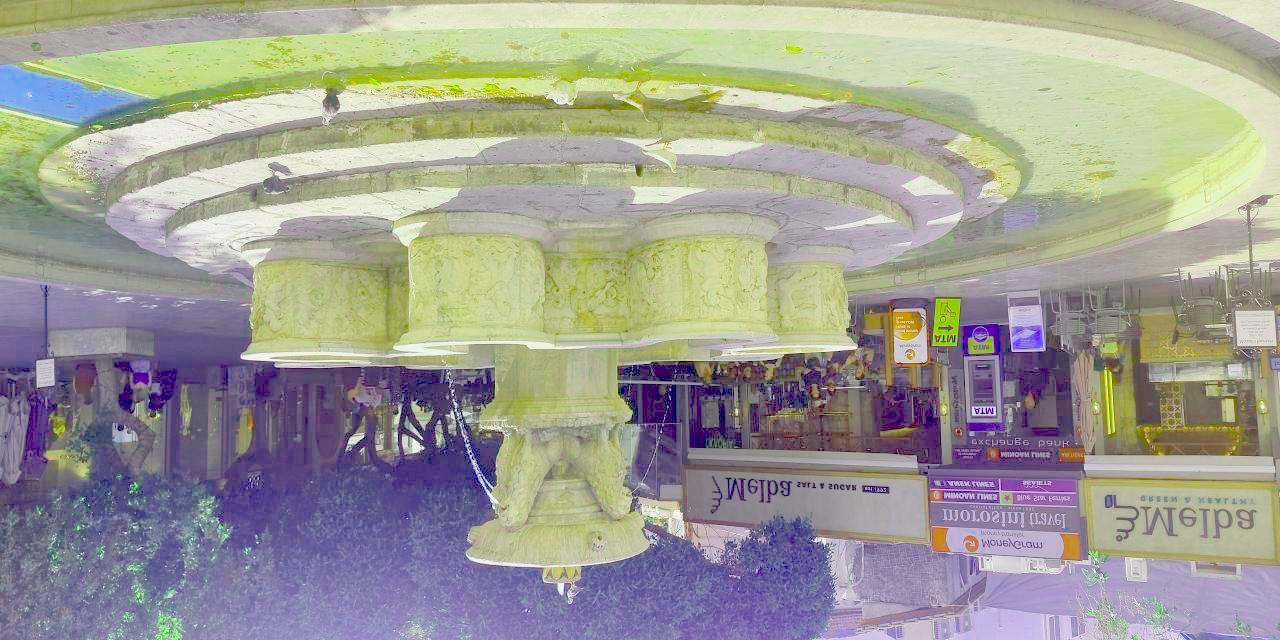Liontaria: (244, 215, 861, 596)
